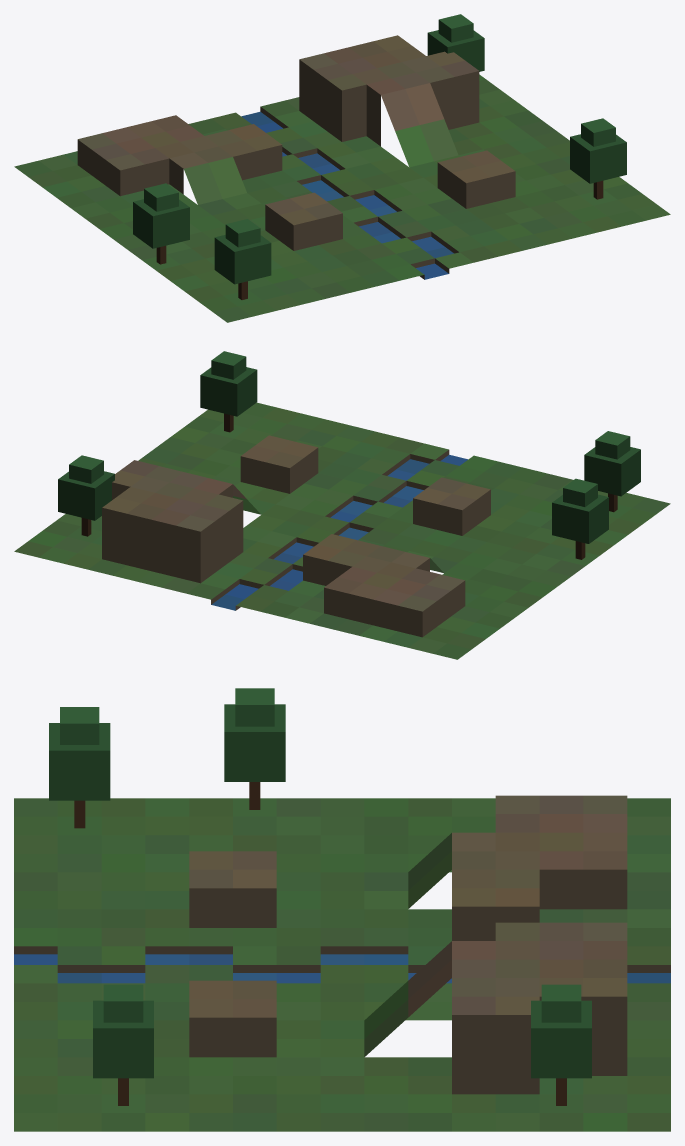
3 renders of one model, top to bottom at view 1: azimuth 30°, elevation 25°; view 2: azimuth 150°, elevation 25°; view 3: azimuth 270°, elevation 25°, orthographic. The views are drawn at different scales.
Parts seen in each view (by area): view 1: scenery; view 2: scenery; view 3: scenery.
Part boxes in pixels (x1,y1,x2,y2): scenery: [14, 14, 670, 322]; scenery: [14, 351, 670, 659]; scenery: [14, 688, 670, 1131].
Size of the model in its own units: 18.25 by 2.99 by 15.
